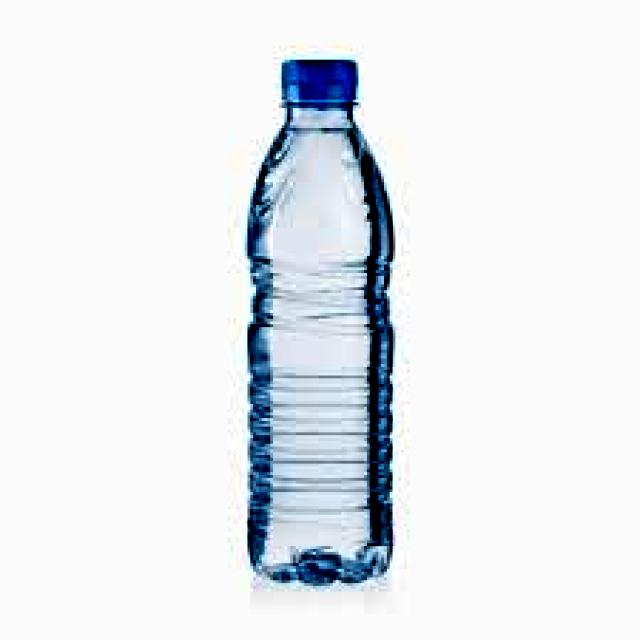Plastic: (244, 53, 396, 592)
